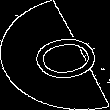O_E: (10, 26, 100, 84)
